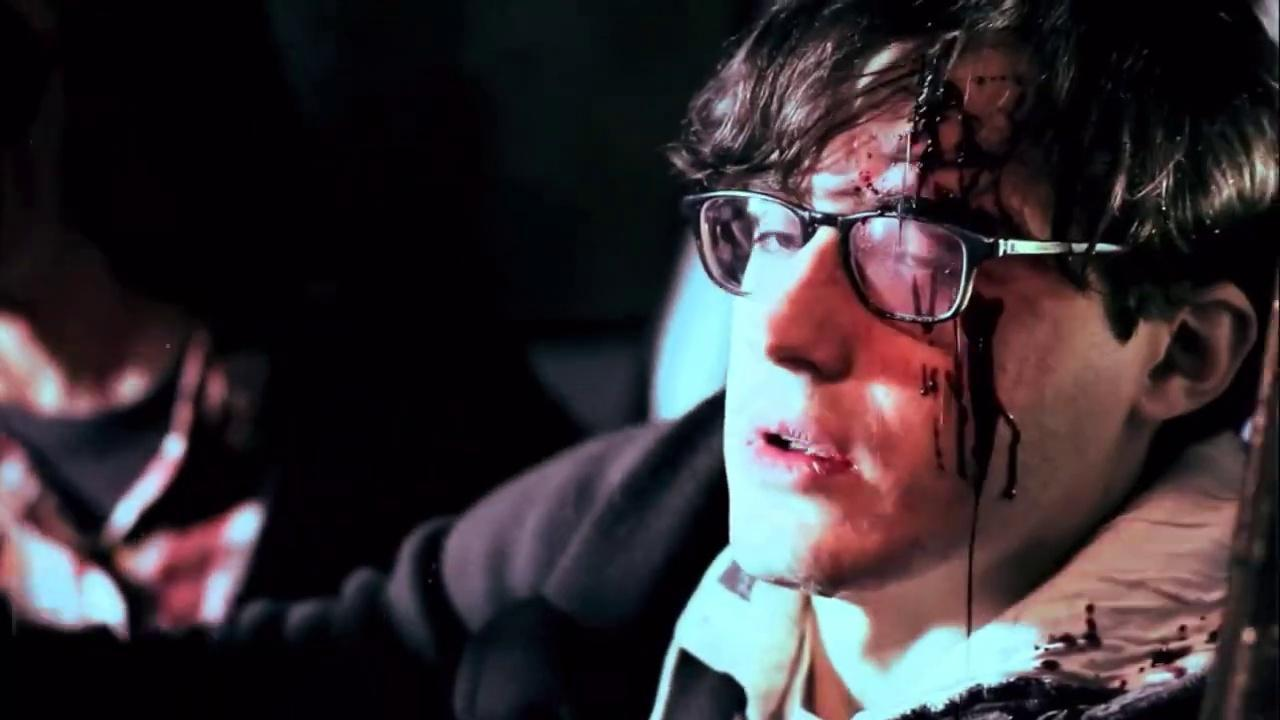Fire: (922, 294, 1023, 637), (899, 70, 1030, 236), (1042, 603, 1104, 652), (902, 271, 943, 345), (1151, 645, 1195, 668), (1040, 658, 1063, 671), (1182, 626, 1189, 640)
